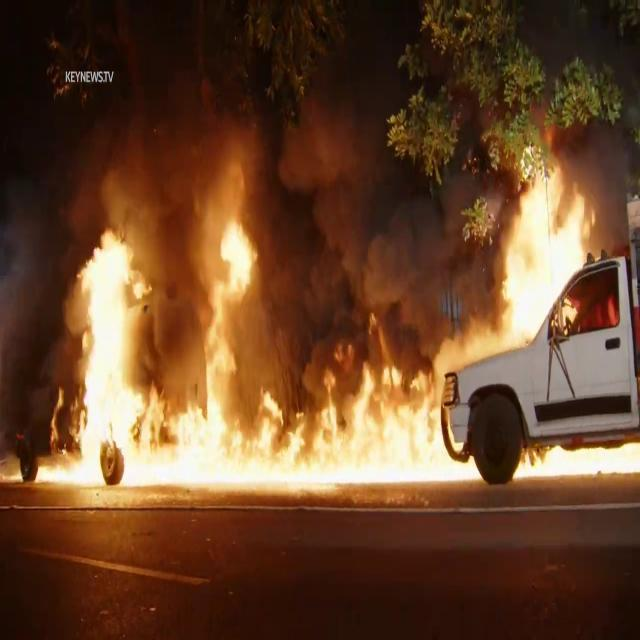Fire: (33, 179, 461, 501), (460, 135, 608, 352), (512, 429, 640, 485)
